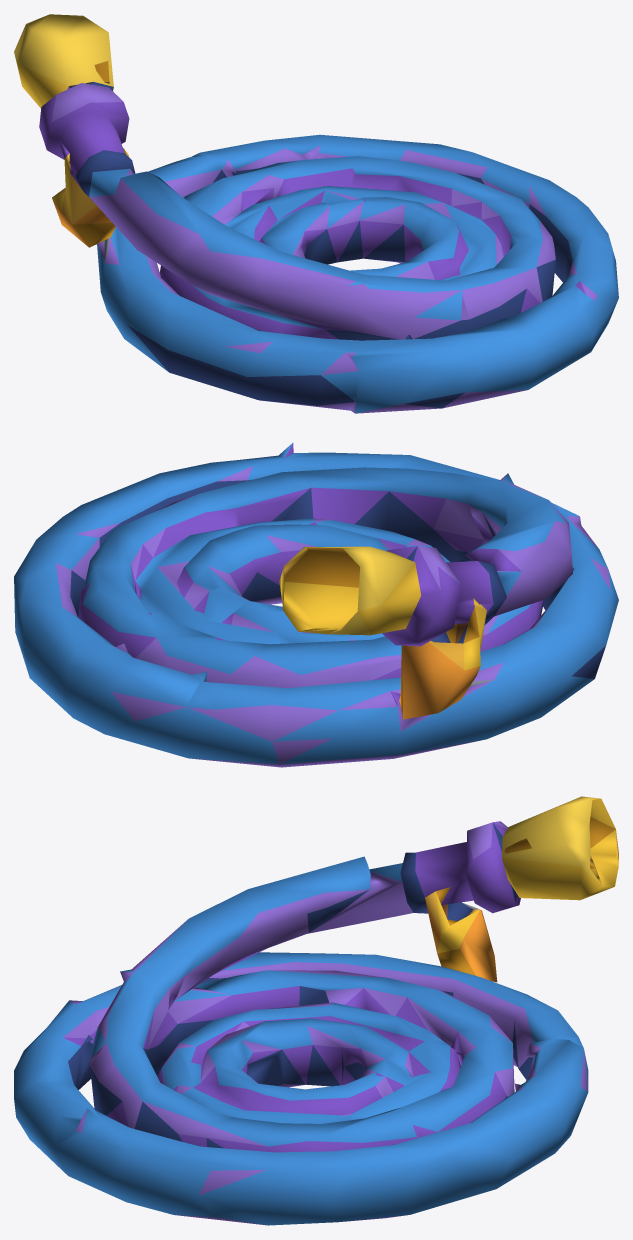
File: SM_hose_coil.glb
The picture shows the model from 3 angles, top to bottom: view 1: azimuth 30°, elevation 25°; view 2: azimuth 150°, elevation 25°; view 3: azimuth 270°, elevation 25°; orthographic projection. The views are drawn at different scales.
Visible parts, largest first — view 1: SM_hose_coil; view 2: SM_hose_coil; view 3: SM_hose_coil.
Boxes of the visible parts, x1,y1,x2,y2 form: SM_hose_coil: [14, 14, 618, 413]; SM_hose_coil: [14, 443, 618, 767]; SM_hose_coil: [14, 796, 618, 1225].
Bounding box in the file's own units: 0.5083 × 0.25 × 0.5762.
Materials: 1 (1 with a texture image).
